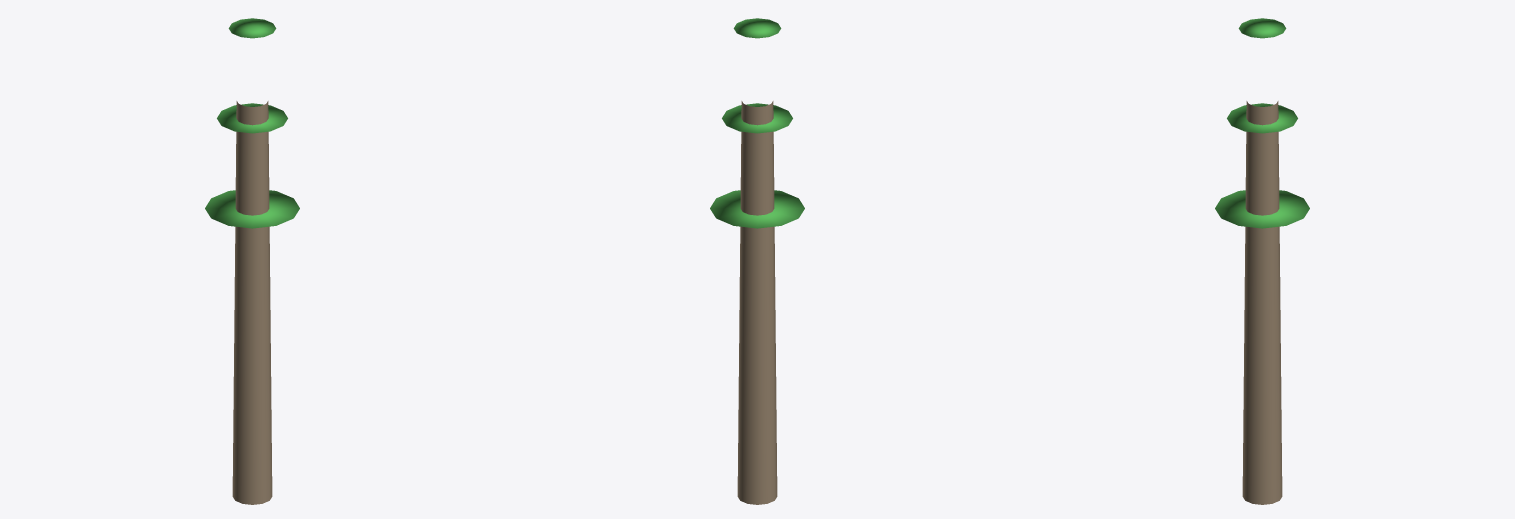
Rendered from tree_bang_dai_loan.glb.
3 renders of one model, left to right at view 1: azimuth 30°, elevation 25°; view 2: azimuth 150°, elevation 25°; view 3: azimuth 270°, elevation 25°, orthographic.
Size of the model in its own units: 2.4 by 2.6 by 2.4.
